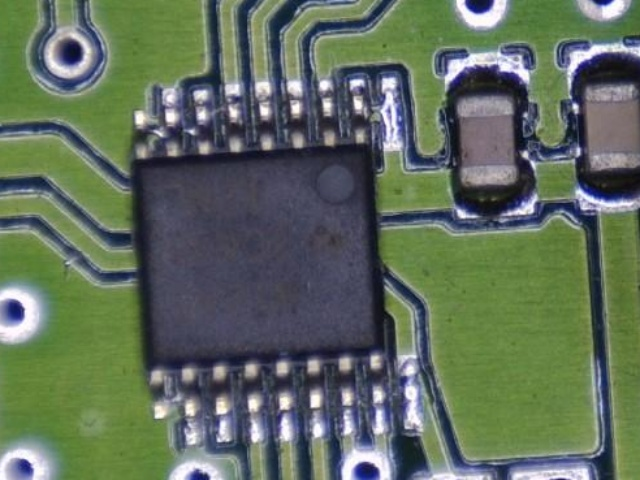pcb_defect: (132, 71, 425, 448)
